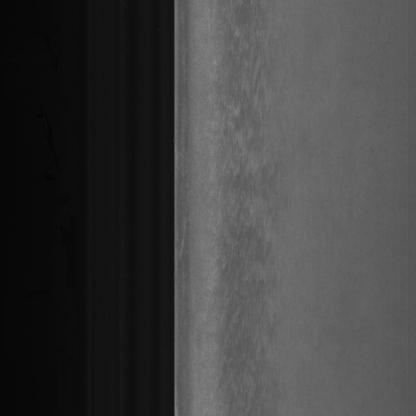silk_spot: (218, 38, 282, 367)
